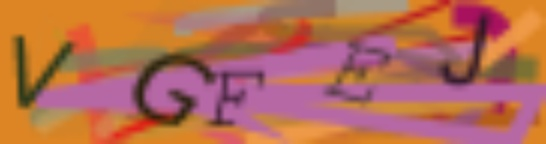E: (321, 43, 392, 103)
F: (205, 69, 271, 132)
G: (131, 50, 215, 128)
J: (436, 6, 492, 89)
V: (8, 31, 77, 112)
